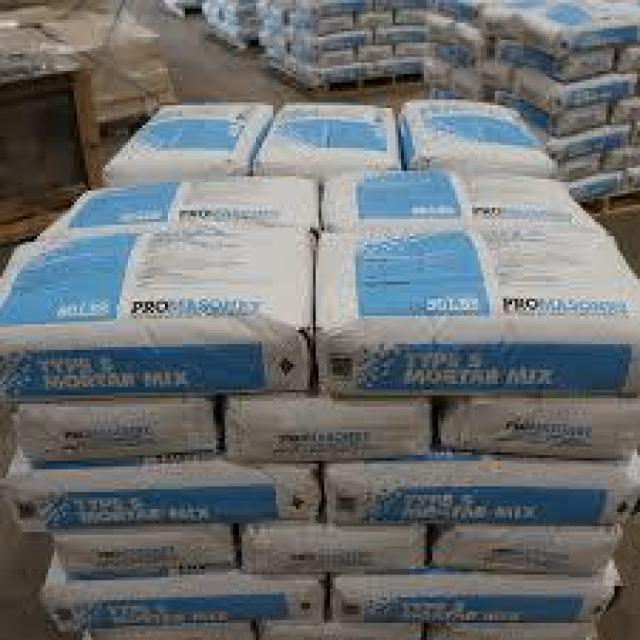gunny_bag: (323, 224, 639, 395), (0, 226, 305, 398), (5, 470, 311, 537), (330, 463, 636, 529), (330, 174, 604, 236), (45, 577, 318, 634), (22, 398, 223, 475), (331, 577, 611, 627), (224, 392, 425, 460), (445, 393, 640, 455), (239, 524, 427, 576), (403, 100, 547, 166), (114, 102, 271, 162), (263, 97, 390, 164), (520, 15, 634, 60), (511, 73, 634, 114), (505, 47, 614, 84), (556, 122, 628, 162), (569, 170, 625, 203), (558, 102, 606, 136), (318, 29, 372, 54), (315, 62, 371, 85), (379, 25, 426, 46), (376, 58, 422, 77), (452, 71, 484, 98), (457, 23, 481, 55), (481, 14, 512, 38), (427, 14, 451, 41), (610, 150, 639, 170), (360, 12, 393, 29)
